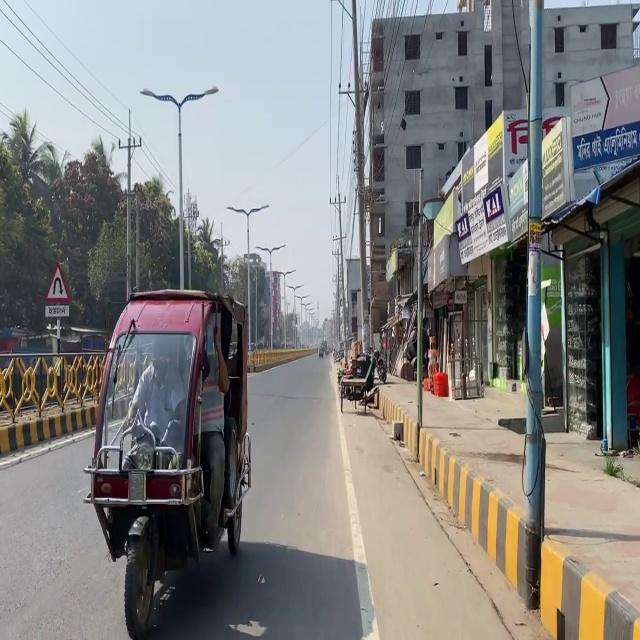Construction-barrier: (375, 389, 532, 600), (328, 349, 378, 638), (538, 536, 639, 639), (0, 400, 98, 454)
Fallen-tree: (336, 348, 385, 414), (318, 346, 324, 357)
Light-pole: (517, 0, 545, 610), (413, 168, 424, 428)
Pothole: (373, 384, 639, 639)
Traffic-cone: (82, 287, 252, 638)
